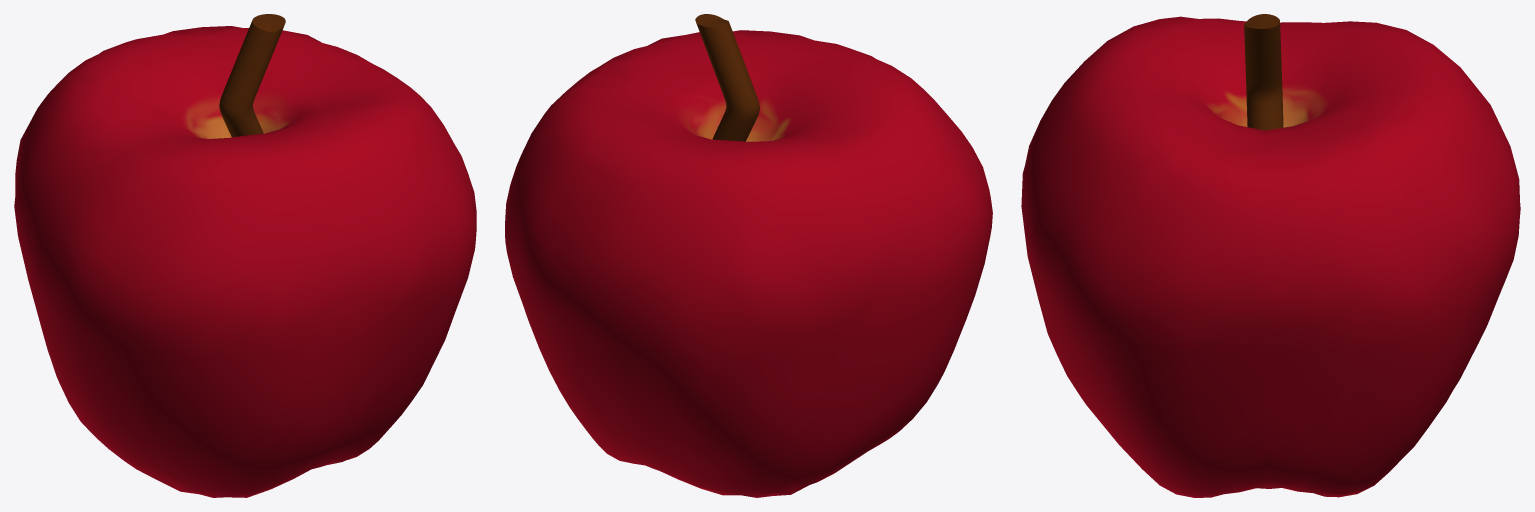
The model's file is Apple.fbx.
3 views of the same model, side by side, from view 1: azimuth 30°, elevation 25°; view 2: azimuth 150°, elevation 25°; view 3: azimuth 270°, elevation 25° (orthographic). The views are drawn at different scales.
Parts seen in each view (by area): view 1: Icosphere; view 2: Icosphere; view 3: Icosphere.
Boxes of the visible parts, left/top/right/bottom form: Icosphere: left=14, top=14, right=476, bottom=497; Icosphere: left=505, top=14, right=992, bottom=497; Icosphere: left=1021, top=14, right=1520, bottom=497.
Size of the model in its own units: 184 by 183 by 185.
